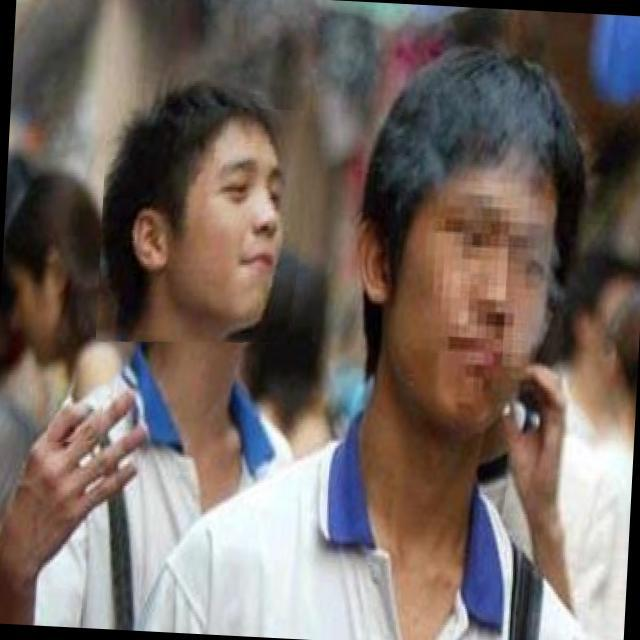cigarette: (48, 382, 107, 446)
